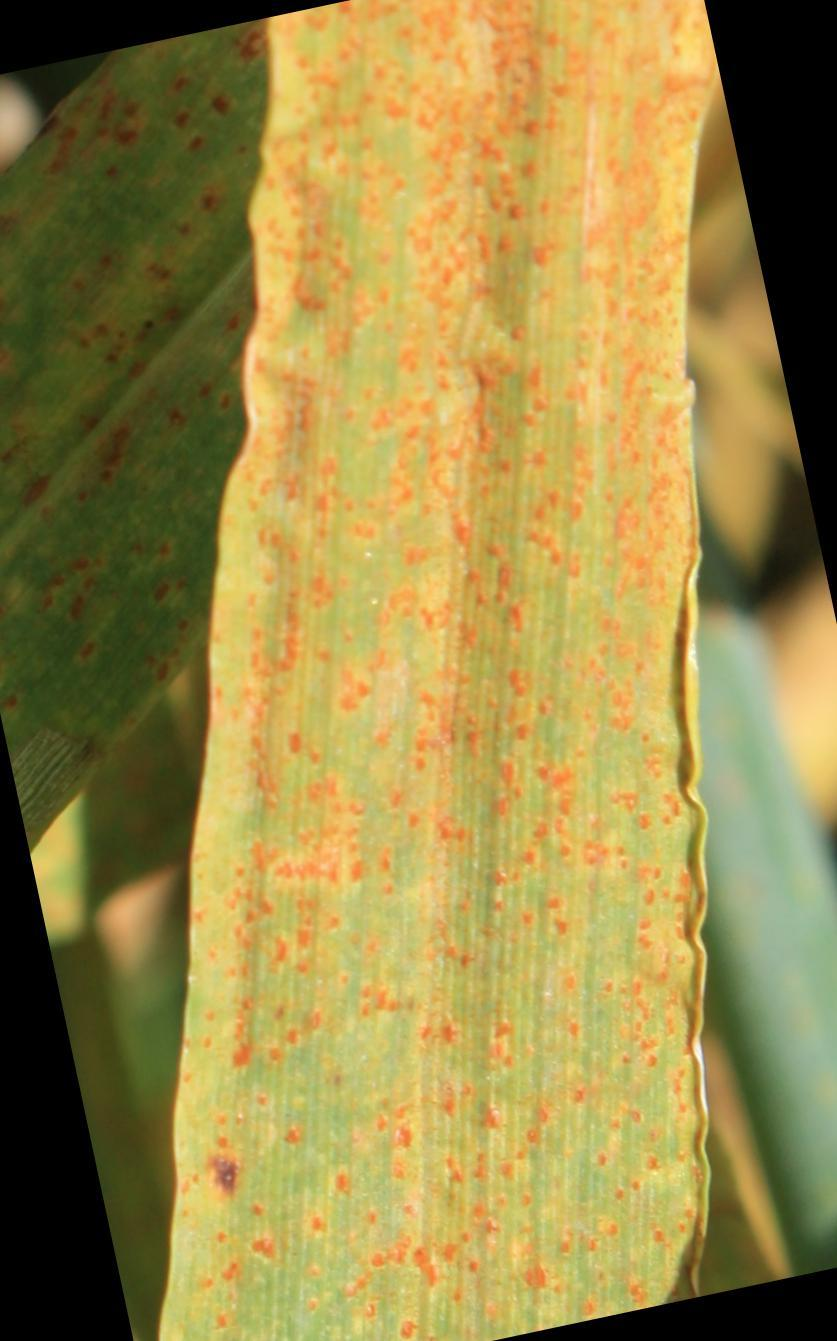Wheat: (288, 17, 668, 1287), (29, 77, 239, 685)
